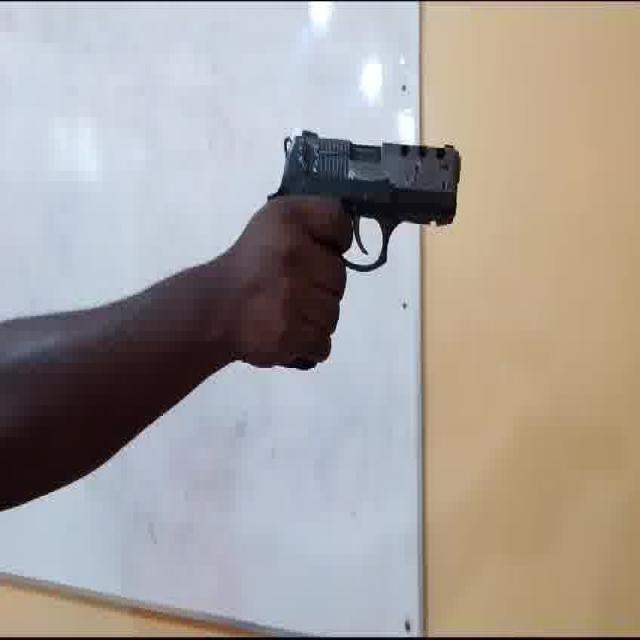weapon: (271, 118, 462, 282)
